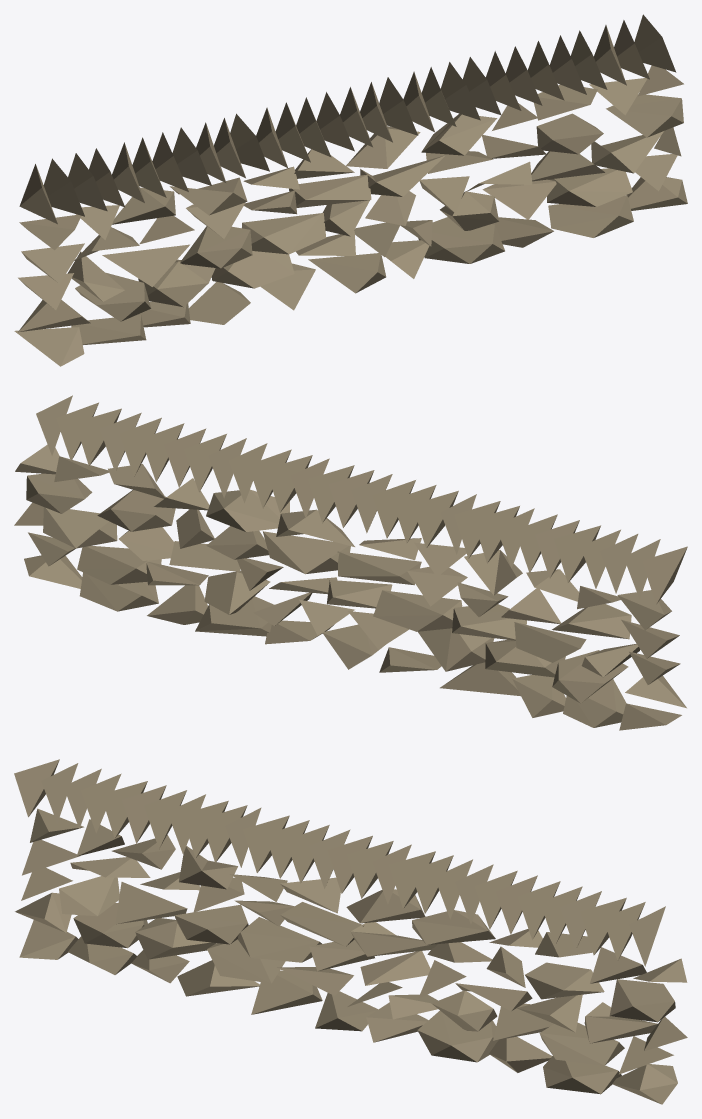
The model's file is wall-dry-stone-lod1.glb.
The picture shows the model from 3 angles, top to bottom: view 1: azimuth 30°, elevation 25°; view 2: azimuth 150°, elevation 25°; view 3: azimuth 330°, elevation 25°; orthographic projection.
Bounding box in the file's own units: 6.1 × 1.66 × 0.7319.
